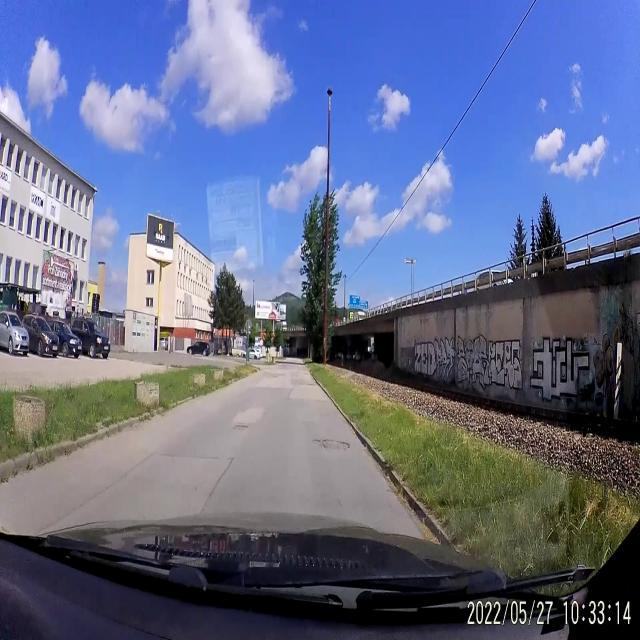Pothole: (314, 434, 352, 456), (234, 422, 248, 436)
